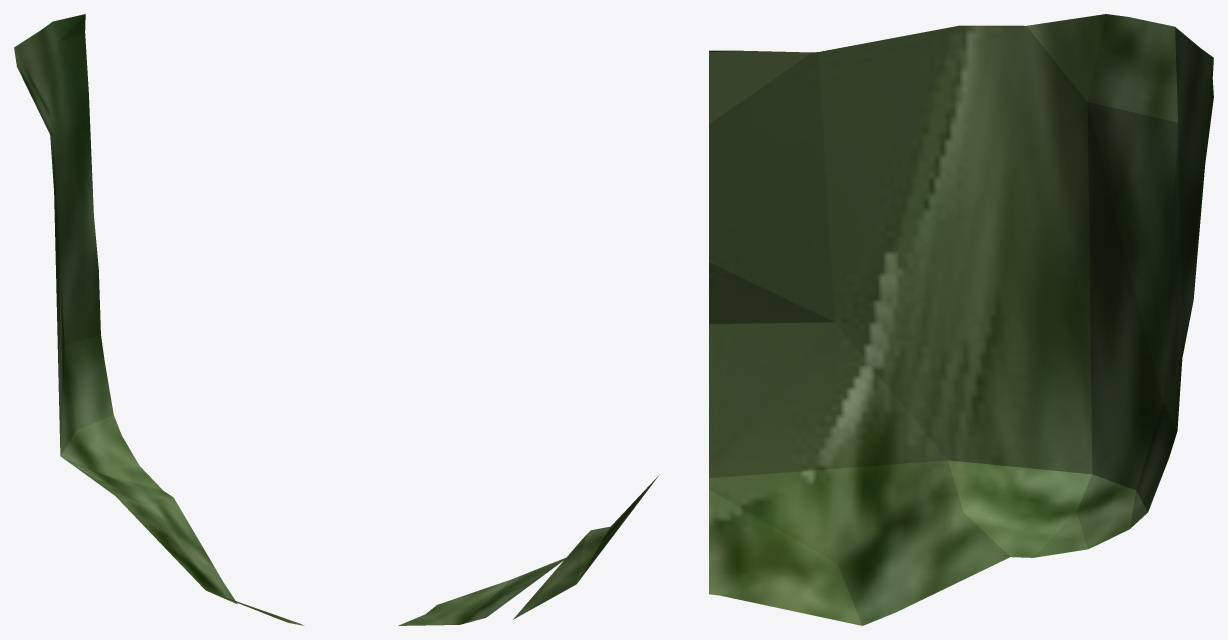
3 renders of one model, left to right at view 1: azimuth 30°, elevation 25°; view 2: azimuth 150°, elevation 25°; view 3: azimuth 270°, elevation 25°, orthographic. The views are drawn at different scales.
Size of the model in its own units: 0.2811 by 1.16 by 0.9672.
1 material, 1 textured.
